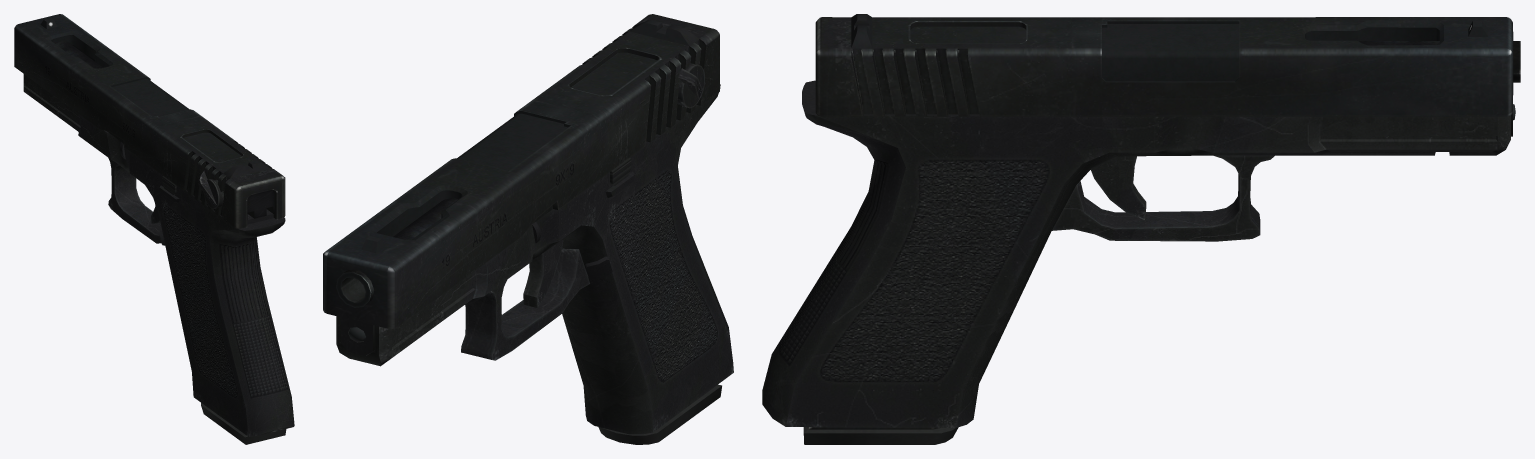
The model's file is glock.FBX.
The picture shows the model from 3 angles, left to right: view 1: azimuth 30°, elevation 25°; view 2: azimuth 150°, elevation 25°; view 3: azimuth 270°, elevation 25°; orthographic projection. The views are drawn at different scales.
Parts seen in each view (by area): view 1: Glock; view 2: Glock; view 3: Glock.
Boxes of the visible parts, <box> form: Glock: <box>14,14,294,444</box>; Glock: <box>323,14,733,444</box>; Glock: <box>762,14,1520,444</box>.
Bounding box in the file's own units: 28.42 × 119 × 201.
